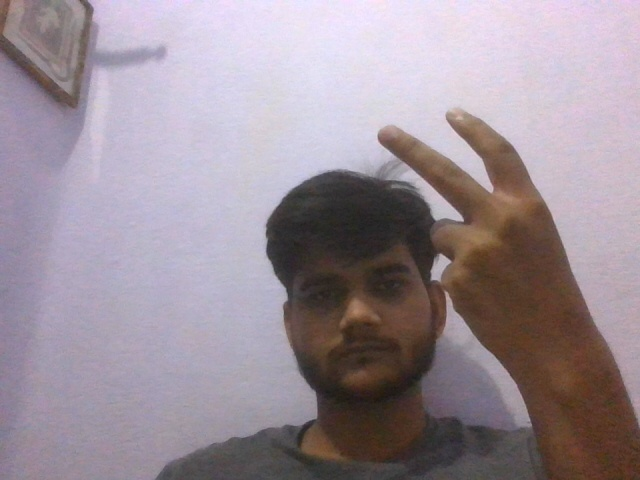yes: (352, 81, 616, 350)
